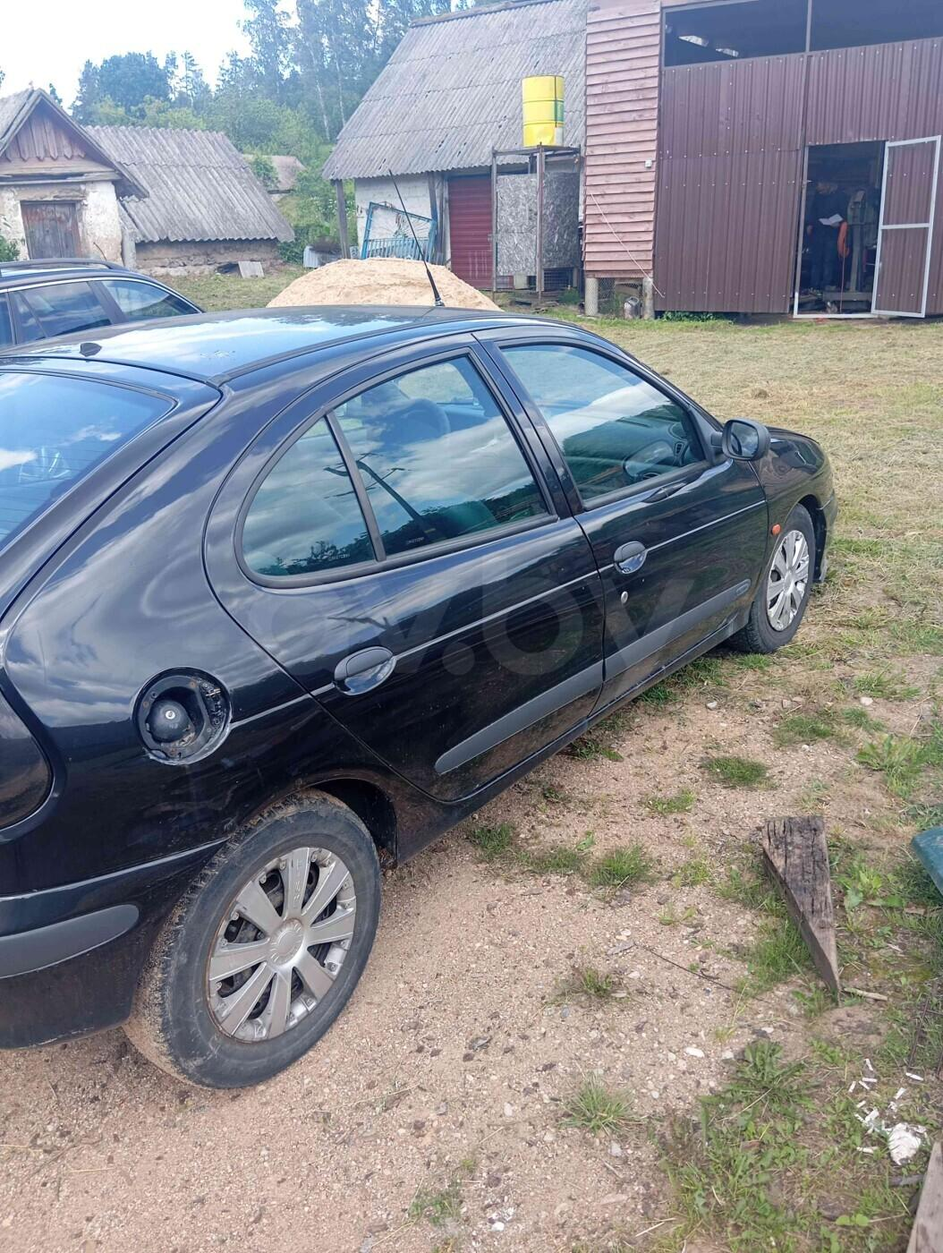Megane_1995-1999: (0, 281, 845, 1101)
